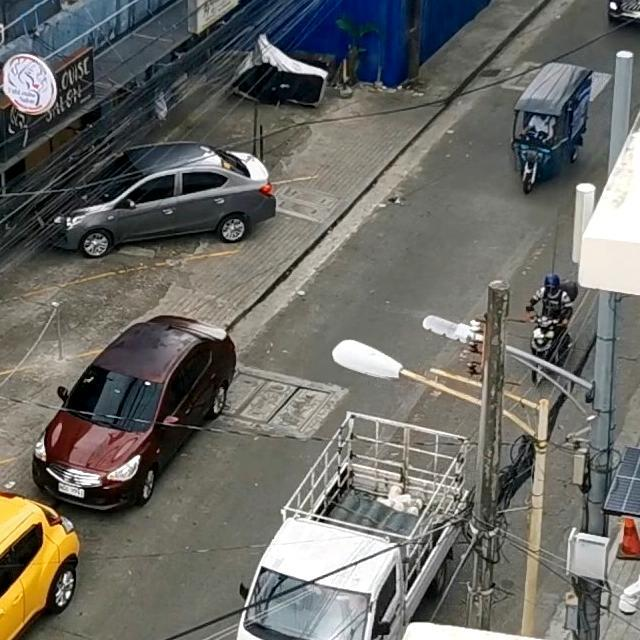Car: (9, 299, 248, 525), (18, 117, 302, 284), (0, 473, 98, 640)
Motorcycle: (506, 250, 612, 391)
